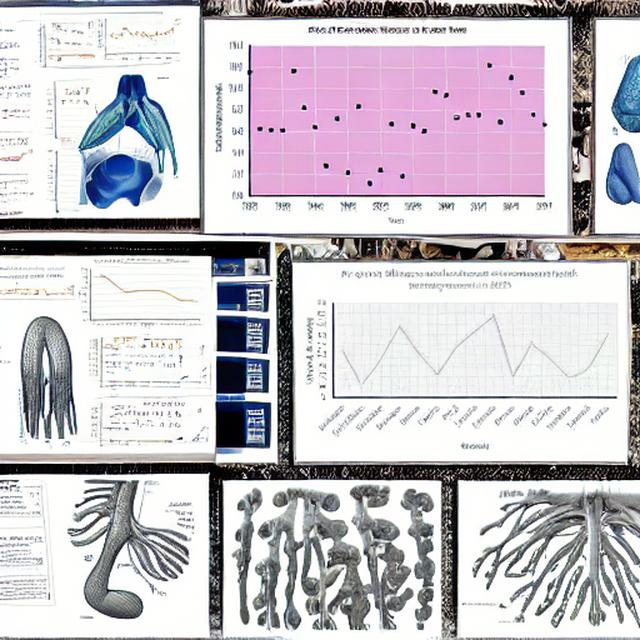Graph: (206, 22, 558, 230), (297, 265, 624, 456), (73, 257, 204, 334), (95, 10, 182, 63)
